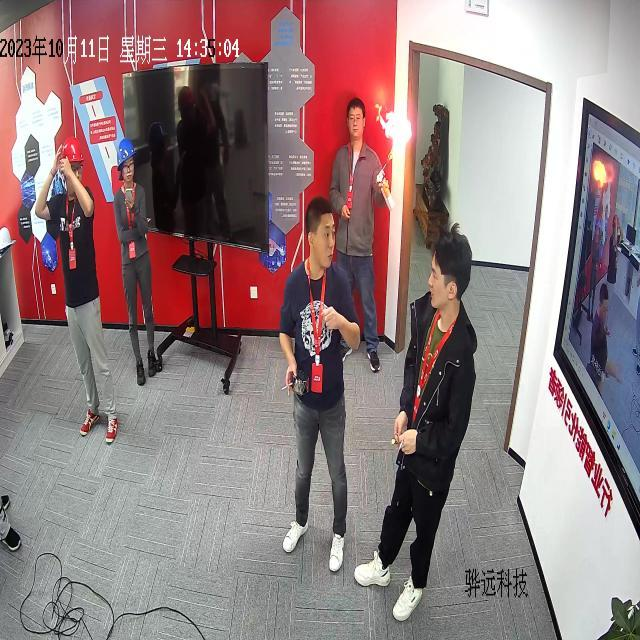Fire: (379, 106, 412, 158)
